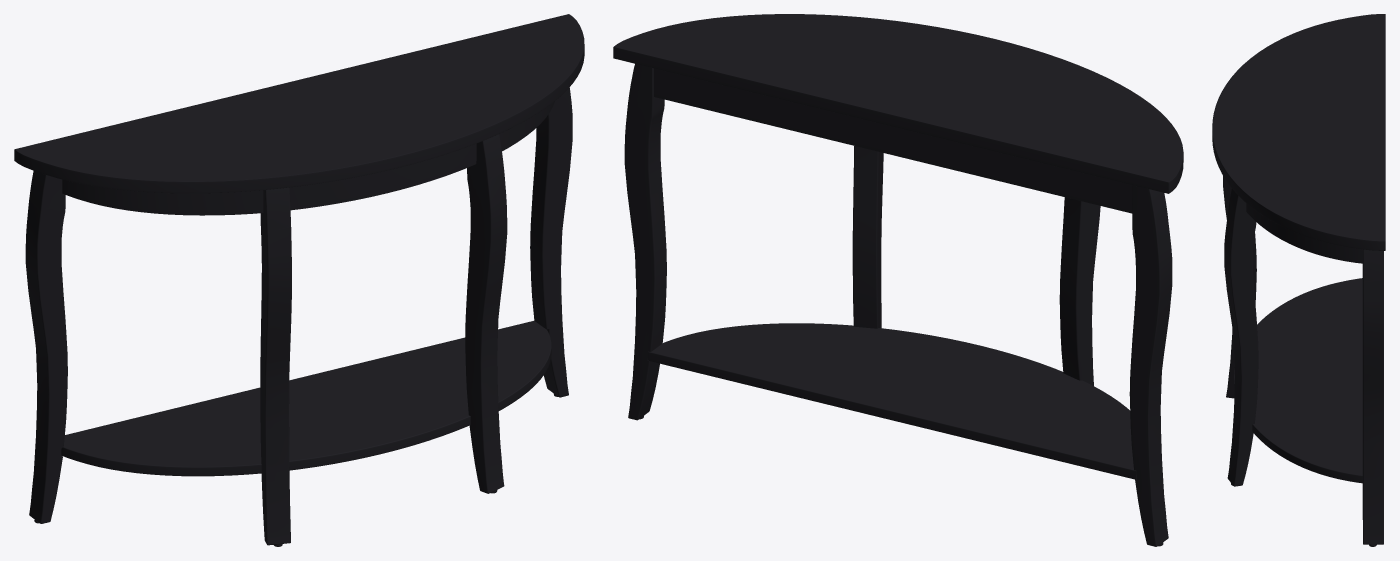
The model's file is table_B07F3Y9BSC.glb.
3 renders of one model, left to right at view 1: azimuth 30°, elevation 25°; view 2: azimuth 150°, elevation 25°; view 3: azimuth 270°, elevation 25°, orthographic. The views are drawn at different scales.
Visible parts, largest first — view 1: RootNode; view 2: RootNode; view 3: RootNode.
Part boxes in pixels (<box>): RootNode: <box>14,14,584,546</box>; RootNode: <box>613,14,1183,546</box>; RootNode: <box>1212,14,1385,546</box>.
Bounding box in the file's own units: 1.22 × 0.7801 × 0.3938.
Materials: 1 (1 with a texture image).
